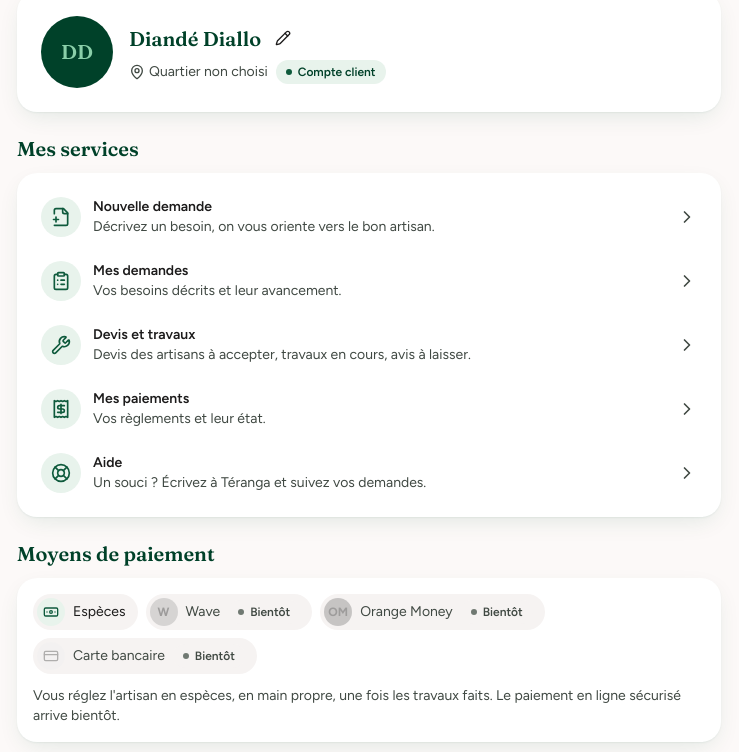
UserProfileScreen › opens an edit input pre-filled with the current name on clicking the pencil
Click the button named "Modifier mon nom": (283, 38) [265,20,301,56]
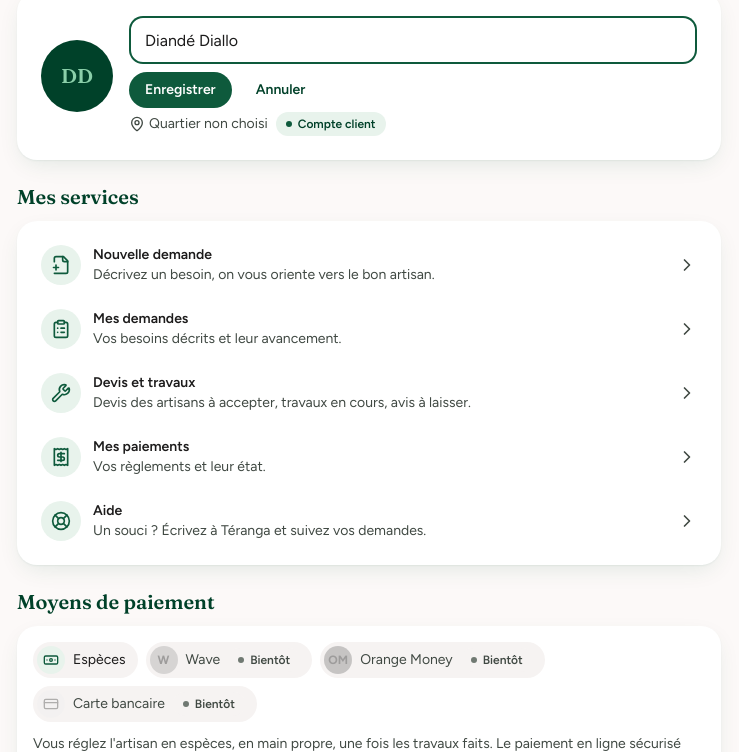
Expected: the field showing "Diandé Diallo" is shown, [129,16,697,64]
